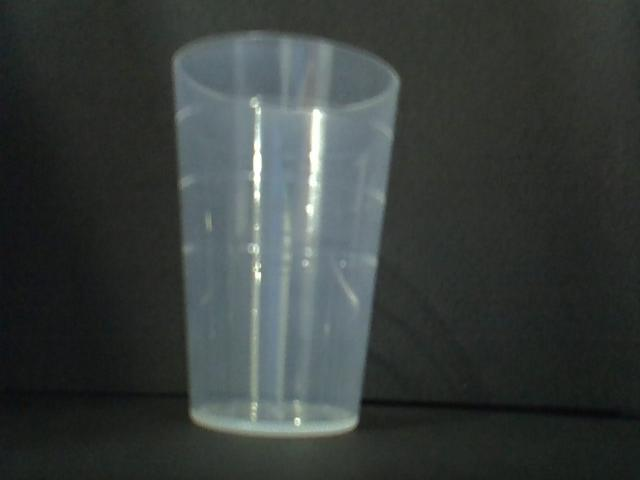cup: (167, 28, 404, 438)
